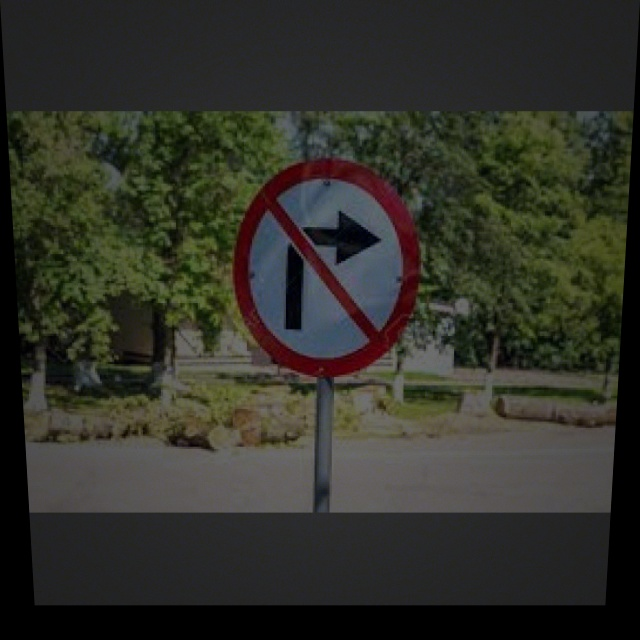Right_Turn_Prohibited: (229, 155, 421, 373)
